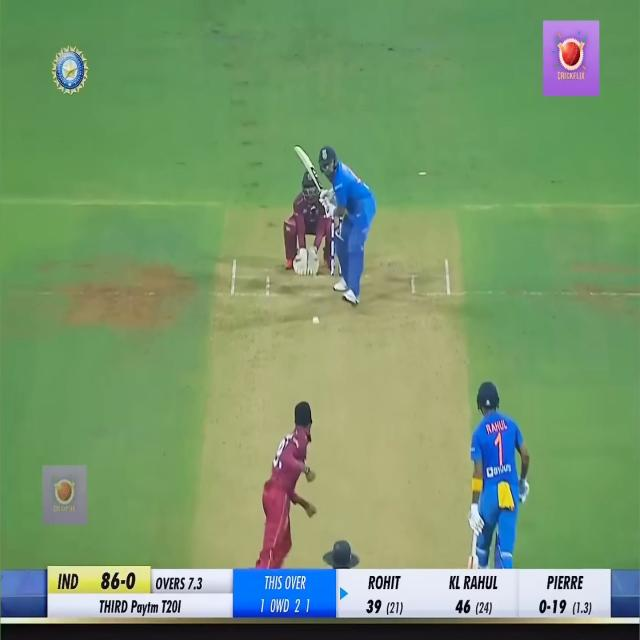fully_visible: (129, 596, 161, 616)
